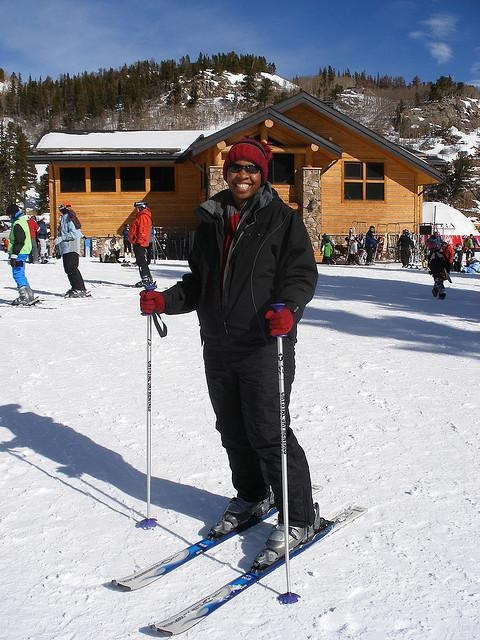person: (139, 129, 324, 569), (120, 199, 172, 294), (49, 196, 96, 300), (5, 202, 40, 305), (424, 226, 457, 303), (356, 223, 384, 268)
